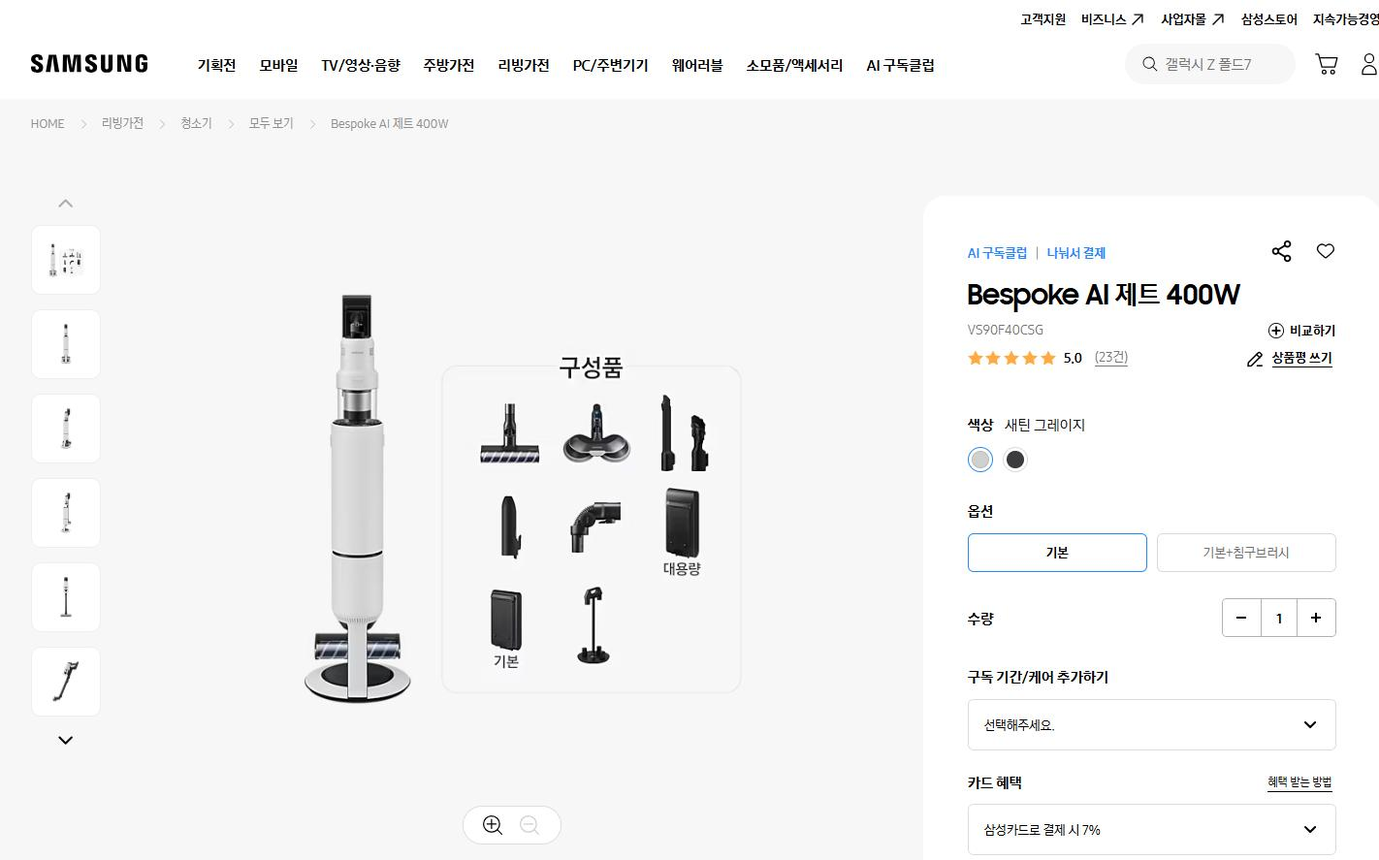button: (964, 530, 1149, 576), (1155, 531, 1339, 575), (12, 41, 154, 84), (1219, 591, 1339, 641), (462, 804, 560, 848), (740, 49, 848, 83), (1235, 347, 1349, 379), (315, 49, 405, 84), (1264, 309, 1350, 345), (862, 49, 942, 83), (567, 52, 654, 83), (1261, 766, 1340, 798), (418, 49, 483, 82), (496, 49, 553, 86), (1087, 341, 1143, 378), (667, 50, 728, 83), (1080, 5, 1153, 32), (1158, 8, 1231, 33), (1237, 4, 1301, 32), (1310, 227, 1352, 268), (254, 51, 309, 81), (191, 50, 242, 80), (1310, 40, 1344, 84), (1017, 6, 1072, 32), (1311, 7, 1379, 28), (998, 442, 1037, 477), (1266, 228, 1298, 268), (1353, 40, 1379, 84), (50, 728, 93, 754), (963, 445, 995, 475), (53, 191, 85, 214)
checkbox: (964, 695, 1344, 755), (966, 802, 1339, 855)
input_field: (1124, 40, 1296, 88)
